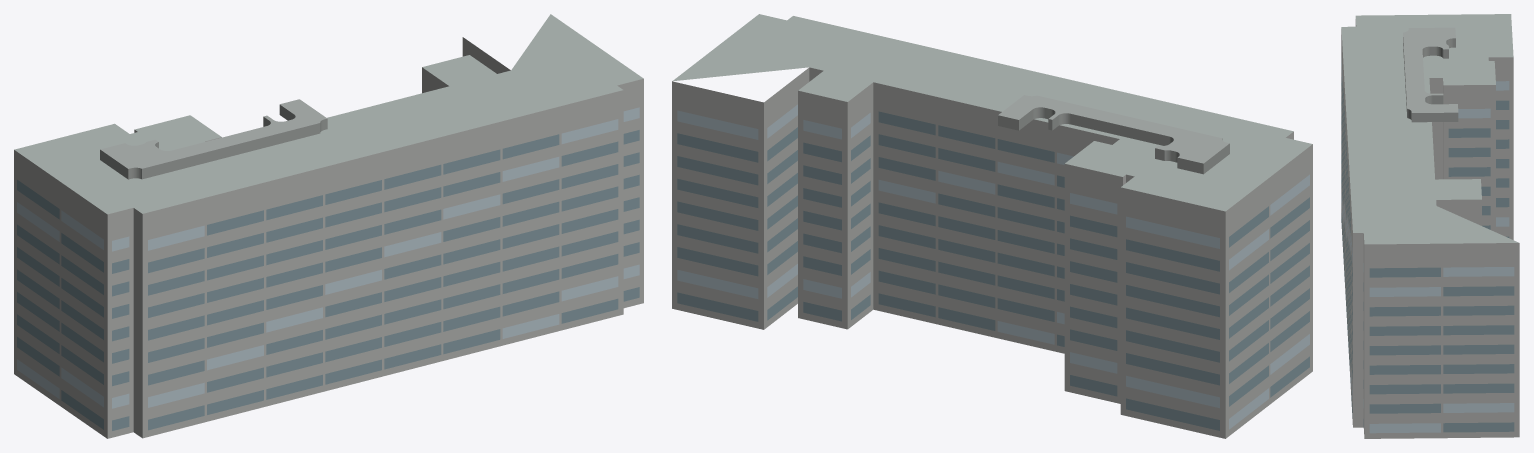
Rendered from named-apt-f3611042-a5a9-42f1-888b-1d98c0df2235.glb.
3 views of the same model, side by side, from view 1: azimuth 30°, elevation 25°; view 2: azimuth 150°, elevation 25°; view 3: azimuth 270°, elevation 25° (orthographic). The views are drawn at different scales.
Parts seen in each view (by area): view 1: named-apt-f3611042-a5a9-42f1-888b-1d98c0df2235; view 2: named-apt-f3611042-a5a9-42f1-888b-1d98c0df2235; view 3: named-apt-f3611042-a5a9-42f1-888b-1d98c0df2235.
Boxes of the visible parts, bbox=[...] form: named-apt-f3611042-a5a9-42f1-888b-1d98c0df2235: bbox=[14, 14, 643, 438]; named-apt-f3611042-a5a9-42f1-888b-1d98c0df2235: bbox=[672, 14, 1312, 438]; named-apt-f3611042-a5a9-42f1-888b-1d98c0df2235: bbox=[1341, 14, 1519, 438].
Bounding box in the file's own units: 84.99 × 35 × 27.8.
